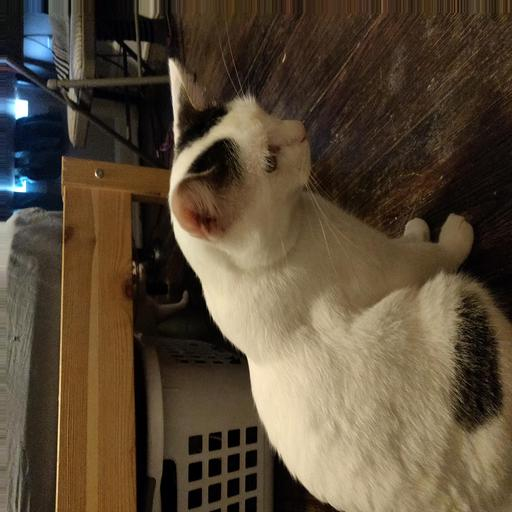cat: (135, 50, 495, 410)
